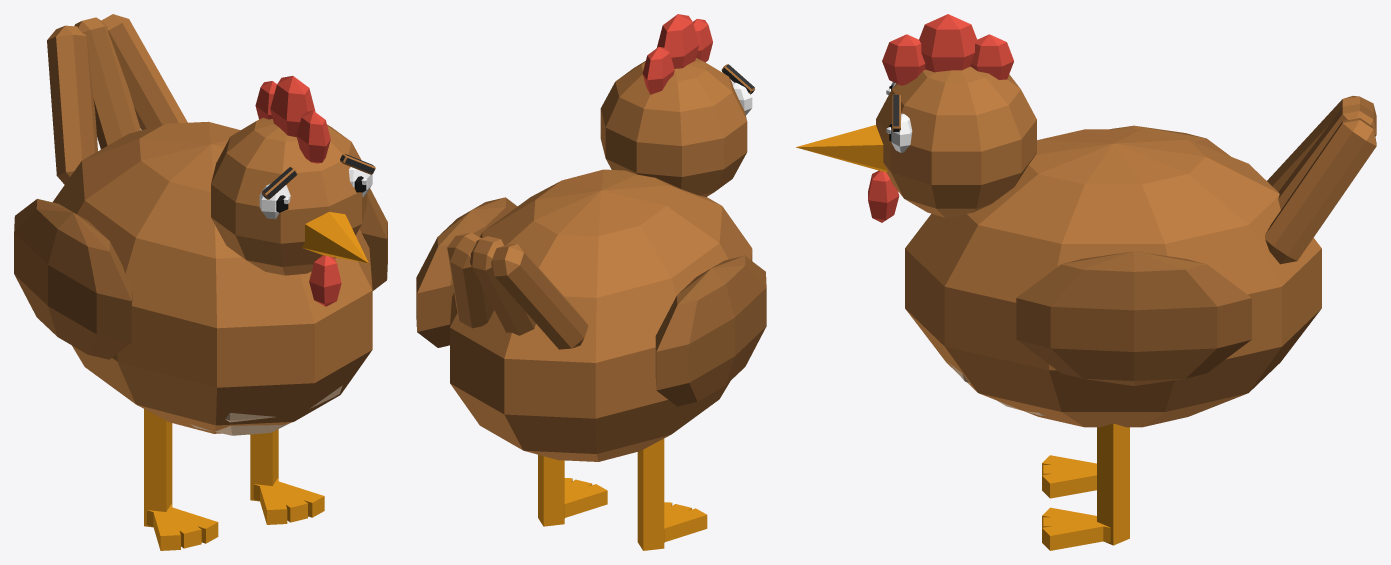
Rendered from huhn.glb.
The picture shows the model from 3 angles, left to right: view 1: azimuth 30°, elevation 25°; view 2: azimuth 150°, elevation 25°; view 3: azimuth 270°, elevation 25°; orthographic projection. The views are drawn at different scales.
Parts seen in each view (by area): view 1: body-m, head-m; view 2: body-m, head-m; view 3: body-m, head-m.
Part boxes in pixels (x1,y1,x2,y2): body-m: (14,14,387,550); head-m: (211,76,375,306); body-m: (416,169,766,550); head-m: (600,14,754,196); body-m: (905,96,1376,550); head-m: (796,14,1036,222).
Bounding box in the file's own units: 0.8627 × 1.33 × 1.41.
